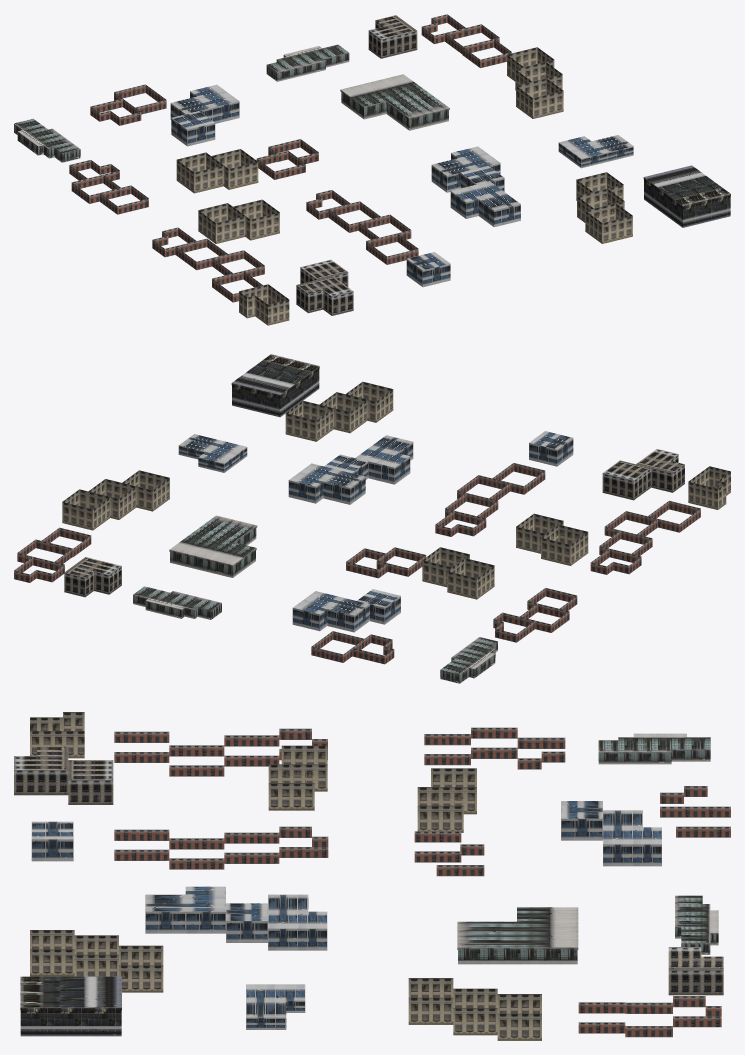
The model's file is Buildings_bottoms.obj.
The picture shows the model from 3 angles, top to bottom: view 1: azimuth 30°, elevation 25°; view 2: azimuth 150°, elevation 25°; view 3: azimuth 270°, elevation 25°; orthographic projection. The views are drawn at different scales.
Parts seen in each view (by area): view 1: building_of_type_6_1, Building_271_1, Building_272_1, Building_263_1, Building_304_1, Building_295_1, Building_013_1, Building_287_1, Building_264_1, Building_274_1, Building_303_1, Building_306_1 (+31 smaller); view 2: building_of_type_6_1, Building_271_1, Building_274_1, Building_295_1, Building_263_1, Building_272_1, Building_264_1, Building_013_1, Building_287_1, Building_278_1, Building_291_1, Building_305_1 (+30 smaller); view 3: building_of_type_6_1, Building_271_1, Building_272_1, Building_287_1, Building_274_1, Building_295_1, Building_264_1, Building_304_1, Building_013_1, Building_307_1, Building_270_1, Building_269_1 (+31 smaller).
Boxes of the visible parts, bbox=[...] form: building_of_type_6_1: bbox=[643, 165, 730, 227]; Building_271_1: bbox=[340, 74, 449, 130]; Building_272_1: bbox=[450, 181, 520, 227]; Building_263_1: bbox=[266, 44, 349, 81]; Building_304_1: bbox=[296, 276, 353, 315]; Building_295_1: bbox=[170, 84, 239, 123]; Building_013_1: bbox=[558, 135, 633, 168]; Building_287_1: bbox=[14, 118, 80, 162]; Building_264_1: bbox=[368, 15, 417, 58]; Building_274_1: bbox=[431, 146, 500, 192]; Building_303_1: bbox=[239, 284, 289, 325]; Building_306_1: bbox=[198, 203, 245, 243]; building_of_type_6_1: bbox=[231, 354, 319, 417]; Building_271_1: bbox=[169, 515, 257, 577]; Building_274_1: bbox=[288, 463, 365, 504]; Building_295_1: bbox=[292, 591, 369, 632]; Building_263_1: bbox=[133, 586, 221, 619]; Building_272_1: bbox=[355, 435, 413, 484]; Building_264_1: bbox=[64, 557, 121, 597]; Building_013_1: bbox=[178, 434, 247, 472]; Building_287_1: bbox=[440, 637, 497, 683]; Building_278_1: bbox=[285, 400, 333, 441]; Building_291_1: bbox=[447, 558, 494, 599]; Building_305_1: bbox=[602, 460, 651, 500]; building_of_type_6_1: bbox=[20, 976, 121, 1036]; Building_271_1: bbox=[457, 907, 578, 964]; Building_272_1: bbox=[145, 886, 225, 933]; Building_287_1: bbox=[598, 733, 710, 764]; Building_274_1: bbox=[268, 894, 327, 950]; Building_295_1: bbox=[603, 810, 661, 866]; Building_264_1: bbox=[668, 947, 723, 995]; Building_304_1: bbox=[14, 746, 68, 795]; Building_013_1: bbox=[246, 984, 305, 1029]; Building_307_1: bbox=[268, 764, 314, 810]; Building_270_1: bbox=[408, 978, 453, 1024]; Building_269_1: bbox=[453, 988, 497, 1035].
Size of the model in its own units: 872 by 39.37 by 875.
